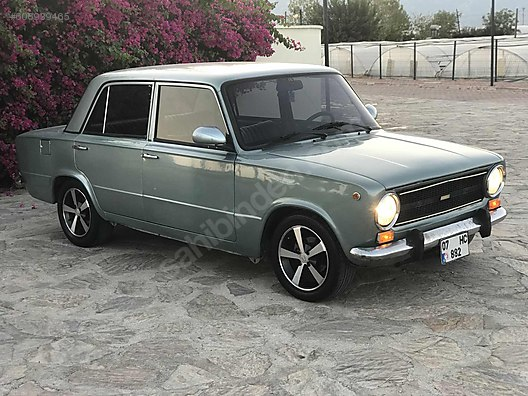murat: (17, 47, 518, 288)
